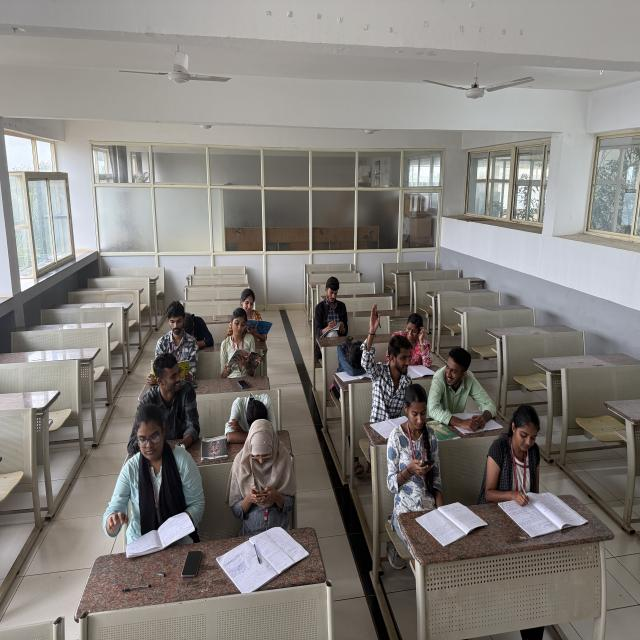Hand Rising: (360, 300, 414, 429)
Reading: (106, 404, 206, 557), (151, 297, 202, 378), (218, 306, 262, 386), (228, 285, 277, 336)
Sleeping: (224, 394, 281, 444), (334, 335, 372, 398), (182, 307, 222, 352)
Using Phone: (227, 416, 296, 541), (387, 381, 444, 520)
Writing: (482, 403, 555, 520), (311, 272, 352, 344), (402, 309, 437, 378)
